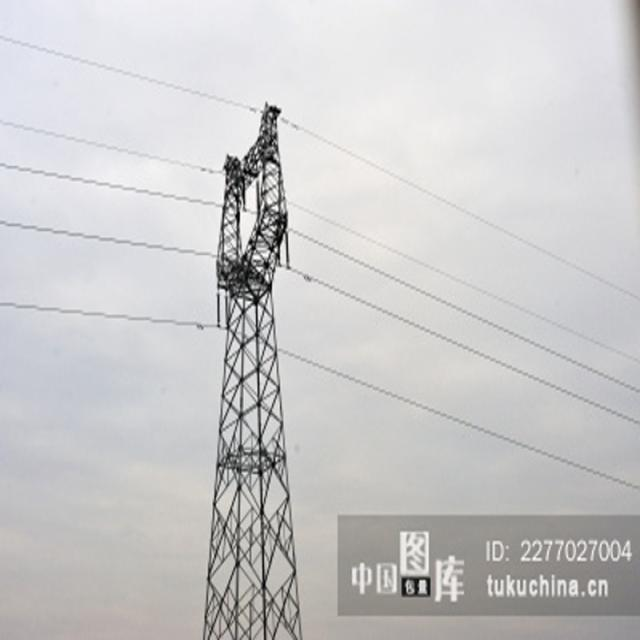non-critical vegetation: (202, 96, 306, 636)
